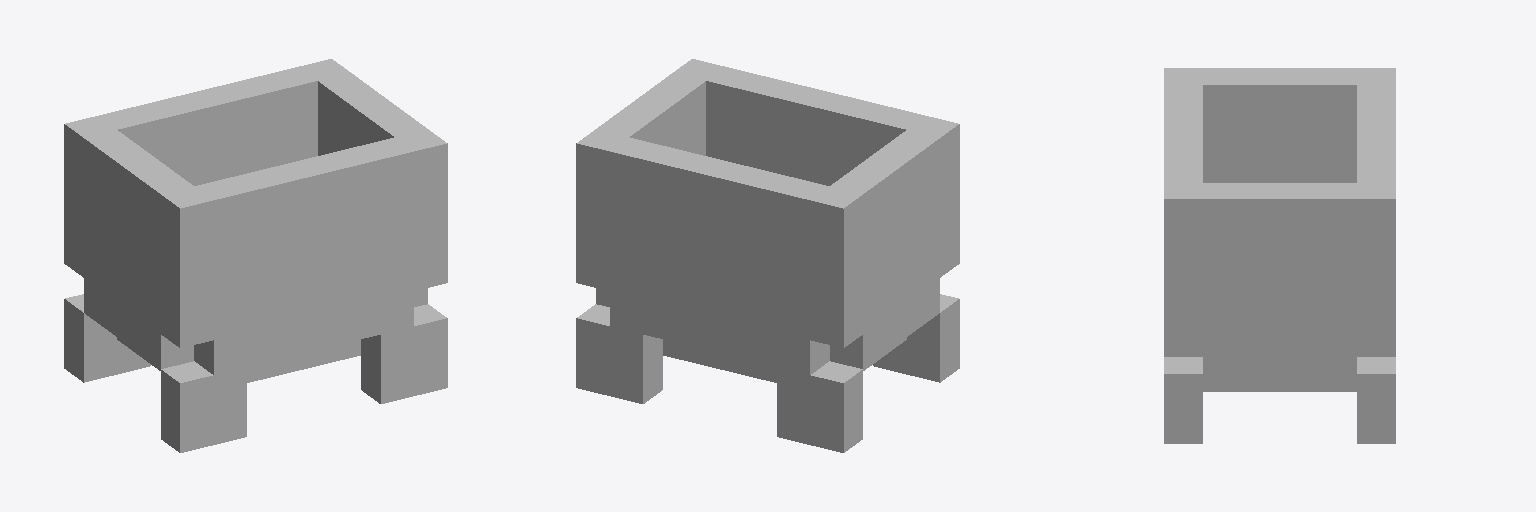
File: cart.obj
3 renders of one model, left to right at view 1: azimuth 30°, elevation 25°; view 2: azimuth 150°, elevation 25°; view 3: azimuth 270°, elevation 25°, orthographic.
Size of the model in its own units: 8 by 7 by 6.